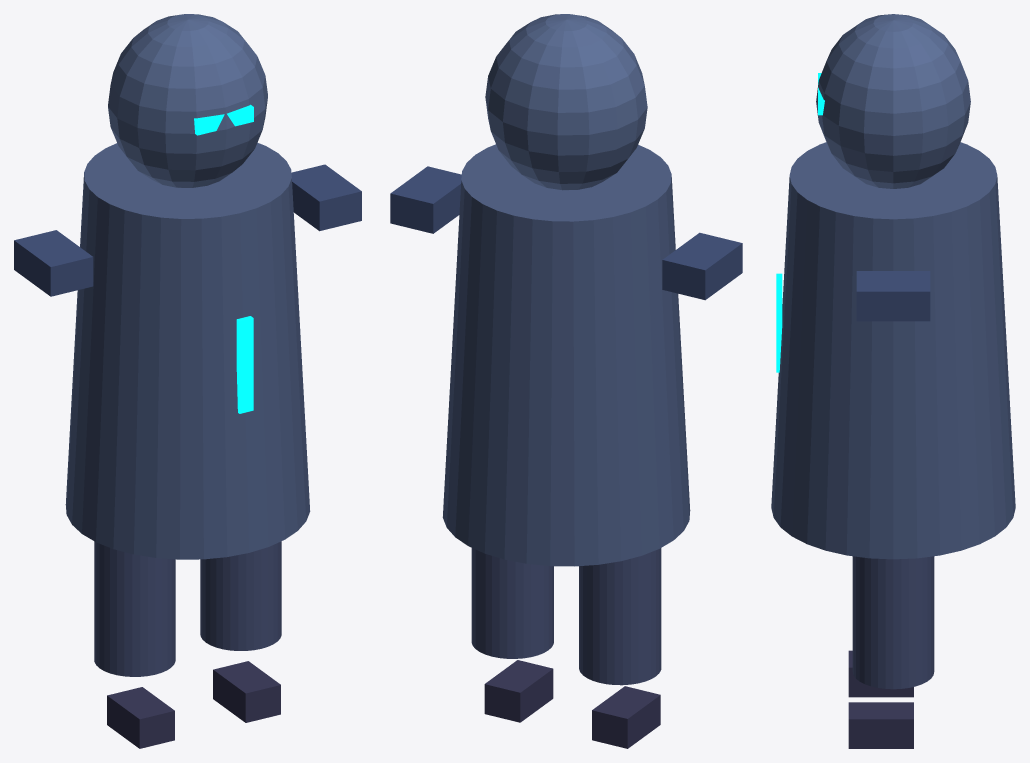
The model's file is SM_Player.glb.
The picture shows the model from 3 angles, left to right: view 1: azimuth 30°, elevation 25°; view 2: azimuth 150°, elevation 25°; view 3: azimuth 270°, elevation 25°; orthographic projection.
Visible parts, largest first — view 1: SM_Player; view 2: SM_Player; view 3: SM_Player.
Boxes of the visible parts, <box> form: SM_Player: <box>14,14,361,748</box>; SM_Player: <box>390,14,742,748</box>; SM_Player: <box>771,14,1015,748</box>.
Size of the model in its own units: 0.88 by 1.88 by 0.6.
